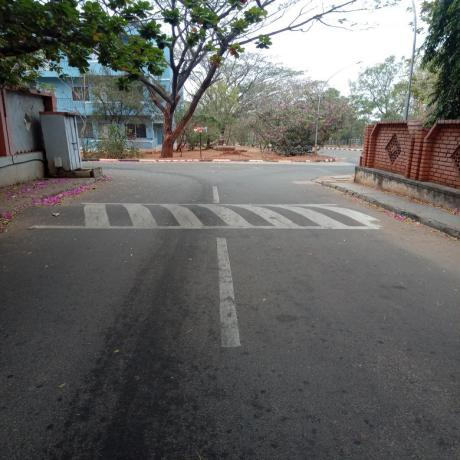Speed Bump: (19, 202, 388, 228)
